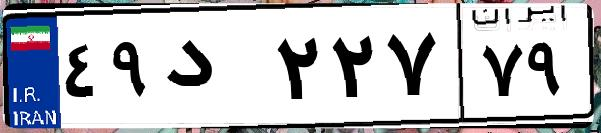2: (270, 28, 330, 110), (330, 28, 385, 110)
4: (57, 26, 110, 100)
7: (385, 28, 445, 110), (475, 38, 525, 113)
9: (525, 38, 570, 115), (110, 28, 158, 98)
د: (158, 20, 270, 120)
